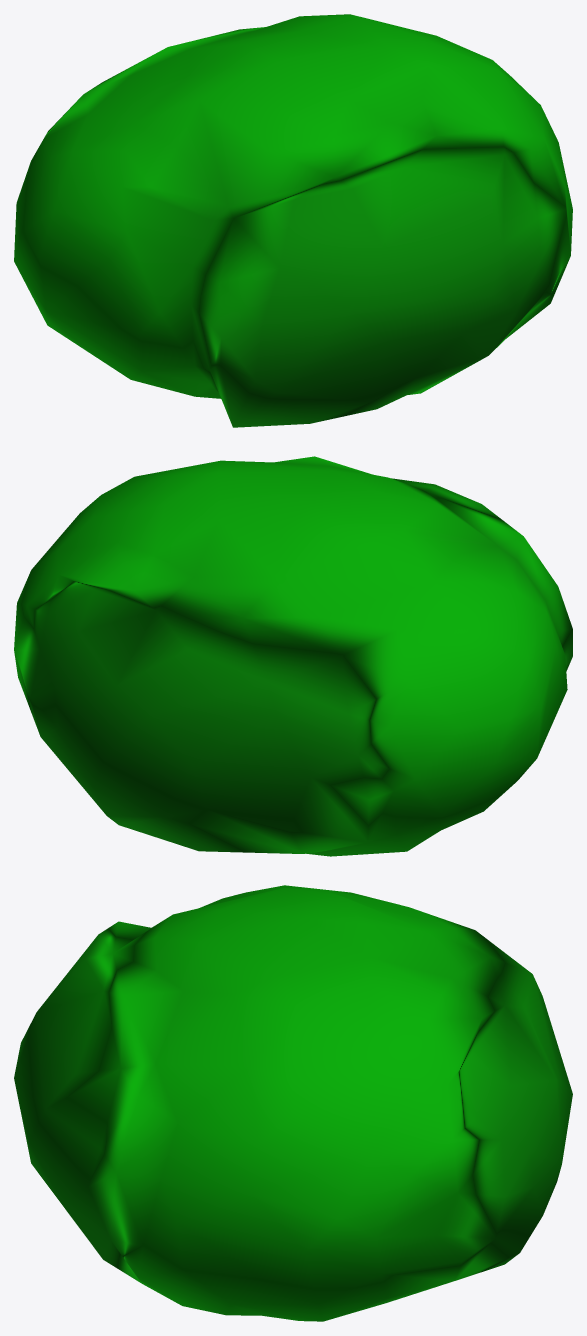
Rendered from rock_small_b.glb.
3 views of the same model, one above another, from view 1: azimuth 30°, elevation 25°; view 2: azimuth 150°, elevation 25°; view 3: azimuth 270°, elevation 25° (orthographic). The views are drawn at different scales.
Parts seen in each view (by area): view 1: LOD0; view 2: LOD0; view 3: LOD0.
Boxes of the visible parts, <box> form: LOD0: <box>14,14,572,427</box>; LOD0: <box>14,456,572,856</box>; LOD0: <box>14,885,572,1321</box>.
Size of what is drawn, in the model's own units: 0.3774 by 0.217 by 0.3388.
